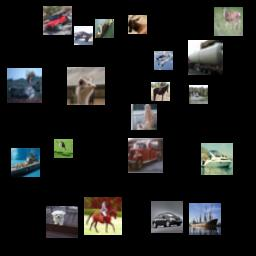airplane: (154, 51, 173, 70)
automobile: (151, 201, 183, 233), (43, 6, 72, 35)
bird: (67, 67, 105, 105), (54, 139, 73, 158)
cat: (131, 104, 157, 130)
deer: (7, 68, 42, 103), (214, 7, 243, 36), (128, 15, 147, 34)
dog: (46, 206, 78, 238)
ship: (189, 203, 221, 235), (201, 143, 233, 175), (11, 148, 40, 177), (189, 85, 208, 104), (95, 19, 114, 38)
truck: (188, 40, 223, 75), (128, 138, 163, 173), (74, 26, 93, 45)
